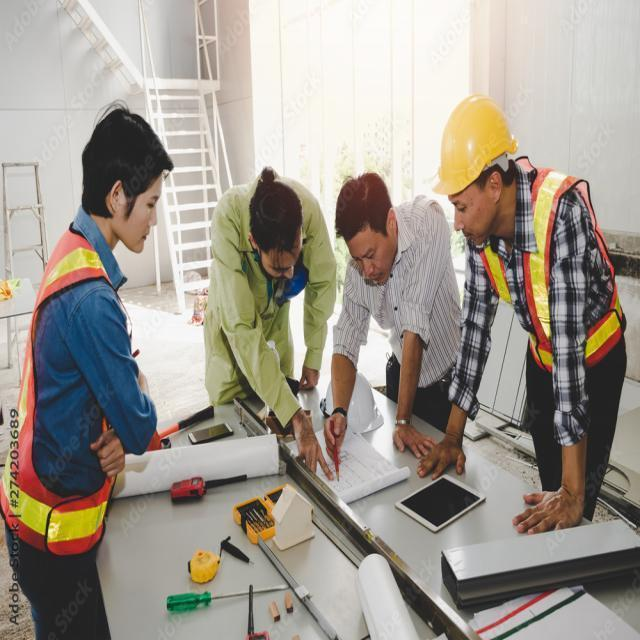No_BreathingApparatus: (118, 171, 166, 262), (445, 174, 495, 245), (348, 231, 392, 283)
No_Glove: (89, 420, 129, 482), (324, 406, 351, 453)
No_Harness: (12, 186, 142, 604), (520, 178, 615, 364)
No_Helmet: (81, 101, 176, 182), (334, 163, 398, 236)
